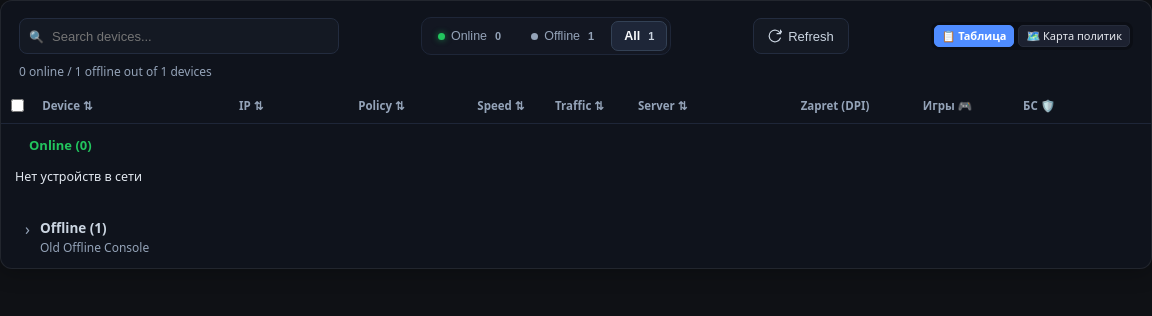
Devices Component — Per-Device Zapret DPI (Feature 3) › correctly handles offline devices with empty IP when toggling Zapret off and on
Click the element with class "offline-accordion-row" at (87,237), box [25, 218, 149, 256]
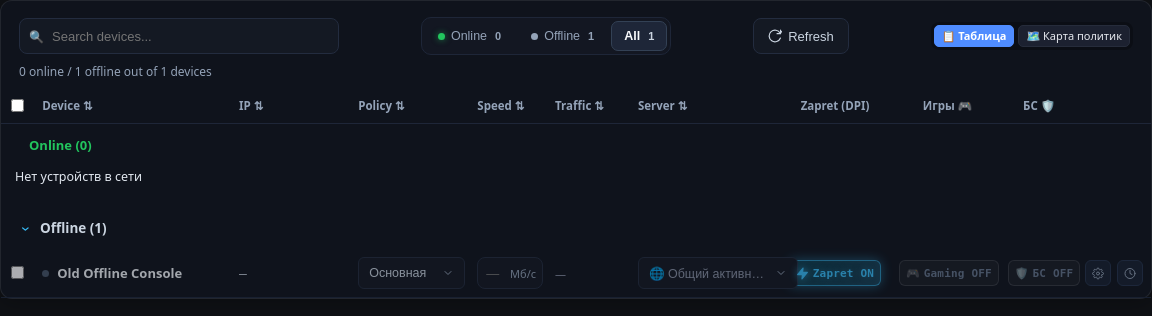
Expected: the button with class "device-zapret-btn" is shown
Expected: the button with class "device-zapret-btn" reads "Zapret ON"
Click to disable Zapret for this device without IP (only MAC)
Click the button with class "device-zapret-btn" at (835,273), box [789, 260, 881, 286]
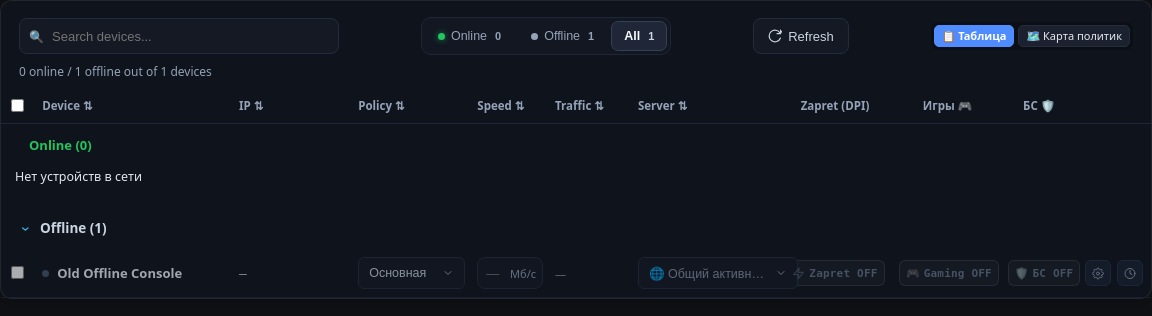
Expected: the button with class "device-zapret-btn" reads "Zapret OFF", [785, 260, 884, 286]
